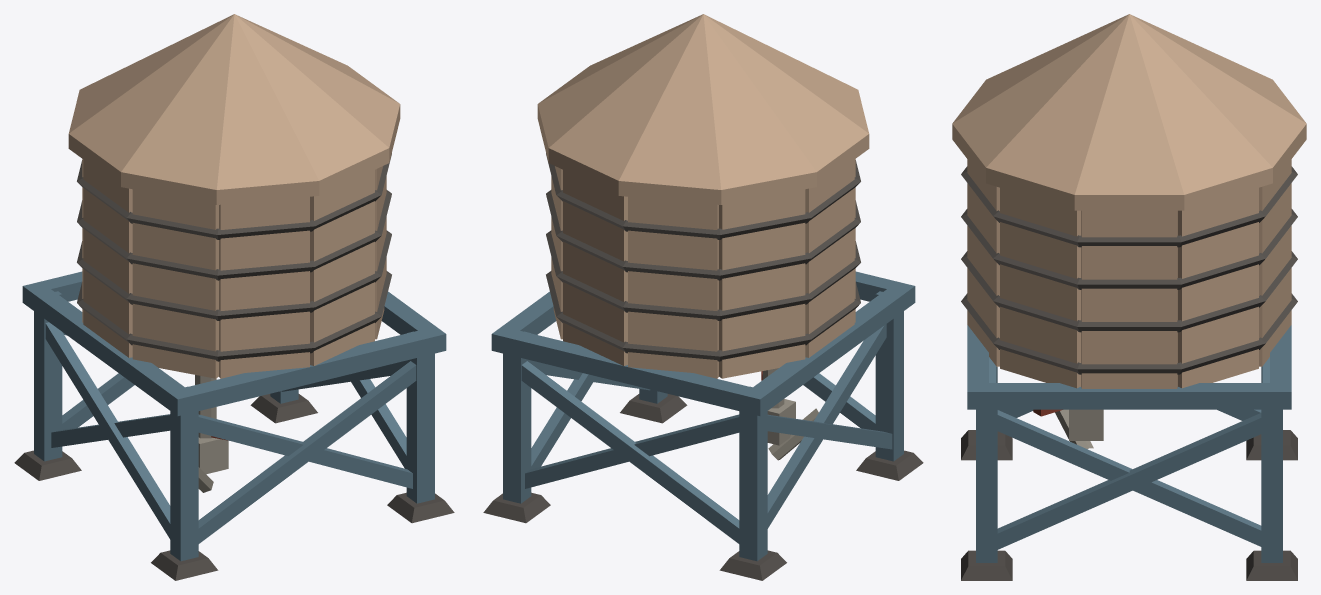
The model's file is rooftop-water-tower-b38362.glb.
3 views of the same model, side by side, from view 1: azimuth 30°, elevation 25°; view 2: azimuth 150°, elevation 25°; view 3: azimuth 270°, elevation 25° (orthographic). The views are drawn at different scales.
Parts seen in each view (by area): view 1: tower-body, lid-cone; view 2: tower-body, lid-cone; view 3: tower-body, lid-cone.
Boxes of the visible parts, bbox=[...] form: tower-body: bbox=[14, 153, 454, 580]; lid-cone: bbox=[68, 14, 400, 204]; tower-body: bbox=[483, 153, 923, 580]; lid-cone: bbox=[537, 14, 869, 204]; tower-body: bbox=[961, 159, 1297, 580]; lid-cone: bbox=[952, 14, 1306, 210].
Bounding box in the file's own units: 3.12 × 5.06 × 3.28.
